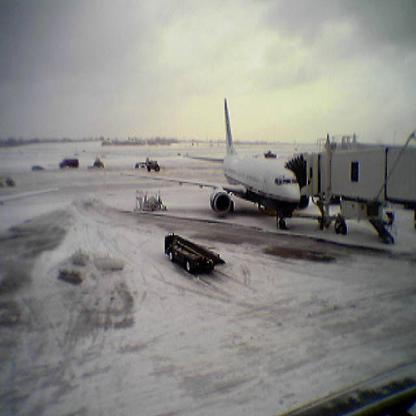aeroplane: (120, 98, 301, 230)
